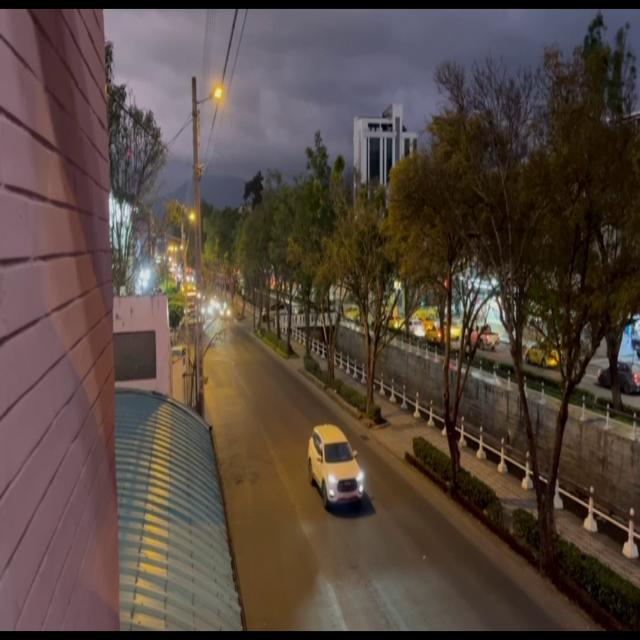SUV: (309, 422, 368, 510)
